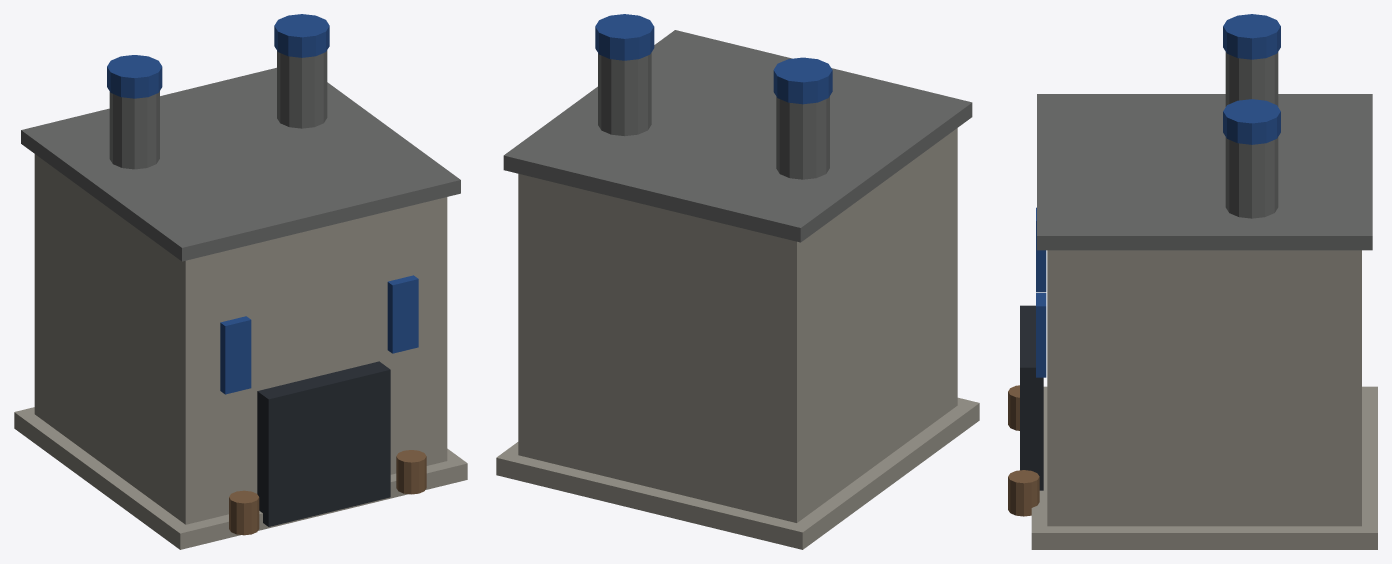
File: bld_industrial_a07_lod1.glb
3 views of the same model, side by side, from view 1: azimuth 30°, elevation 25°; view 2: azimuth 150°, elevation 25°; view 3: azimuth 270°, elevation 25° (orthographic). The views are drawn at different scales.
Parts seen in each view (by area): view 1: body; view 2: body; view 3: body.
Boxes of the visible parts, box(x1,y1,x2,y2) form: body: box(14, 14, 467, 549); body: box(496, 14, 979, 549); body: box(1008, 14, 1377, 549).
Size of the model in its own units: 6.6 by 8.59 by 7.05.
